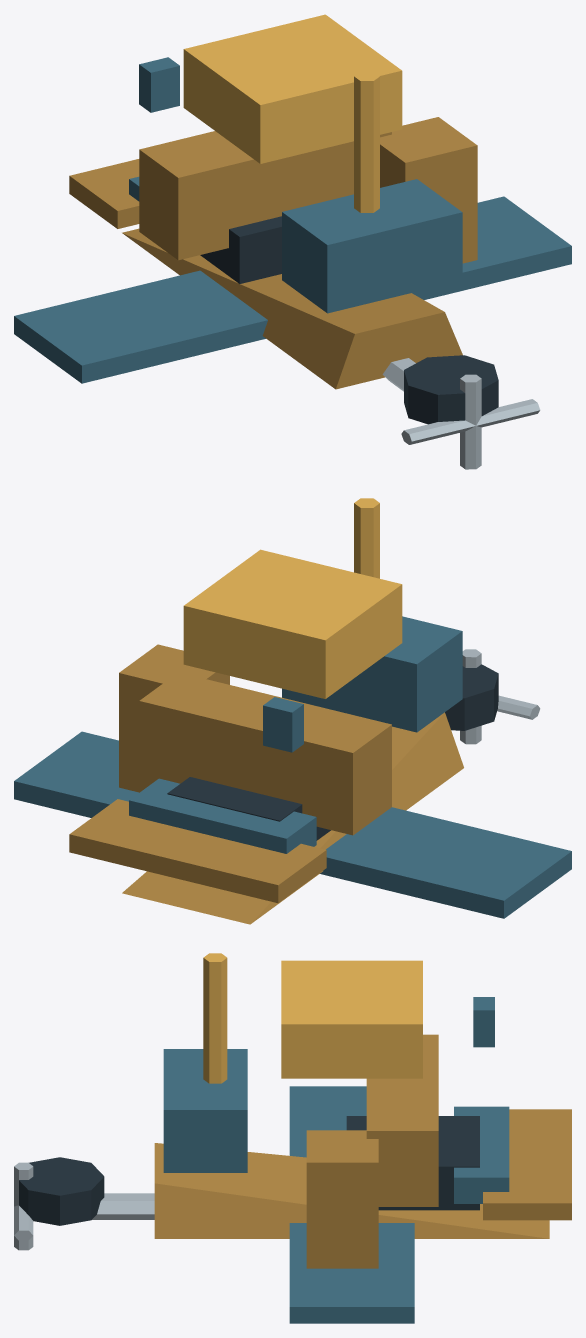
File: scout-aircraft.obj
The picture shows the model from 3 angles, top to bottom: view 1: azimuth 30°, elevation 25°; view 2: azimuth 150°, elevation 25°; view 3: azimuth 270°, elevation 25°; orthographic projection. The views are drawn at different scales.
Parts seen in each view (by area): view 1: air; view 2: air; view 3: air.
Part boxes in pixels (box(x1,y1,x2,y2)): air: box(14, 14, 571, 469); air: box(14, 498, 571, 924); air: box(14, 953, 571, 1323).
Bounding box in the file's own units: 2.18 × 1.33 × 2.33.
